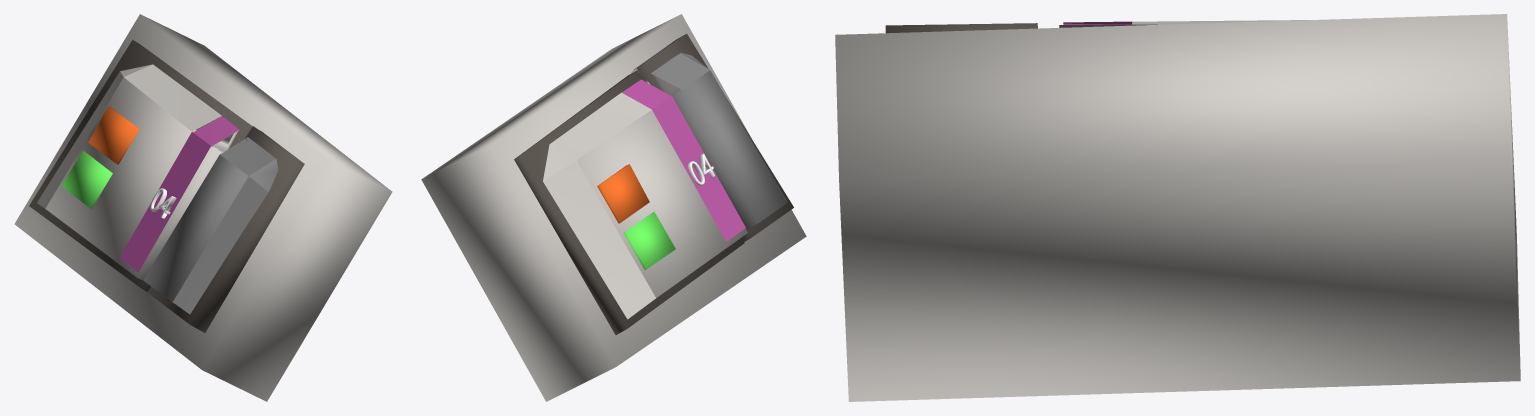
The model's file is Keycard Padlock L4.fbx.
3 views of the same model, side by side, from view 1: azimuth 30°, elevation 25°; view 2: azimuth 150°, elevation 25°; view 3: azimuth 270°, elevation 25° (orthographic). The views are drawn at different scales.
Parts seen in each view (by area): view 1: 58a28e78-8f5b-479a-b784-6fb99b13edc4; view 2: 58a28e78-8f5b-479a-b784-6fb99b13edc4; view 3: 58a28e78-8f5b-479a-b784-6fb99b13edc4.
Part boxes in pixels (bbox=[...]): 58a28e78-8f5b-479a-b784-6fb99b13edc4: bbox=[14, 14, 392, 401]; 58a28e78-8f5b-479a-b784-6fb99b13edc4: bbox=[421, 14, 806, 401]; 58a28e78-8f5b-479a-b784-6fb99b13edc4: bbox=[835, 14, 1520, 401].
Bounding box in the file's own units: 2286 × 2699 × 3842.
